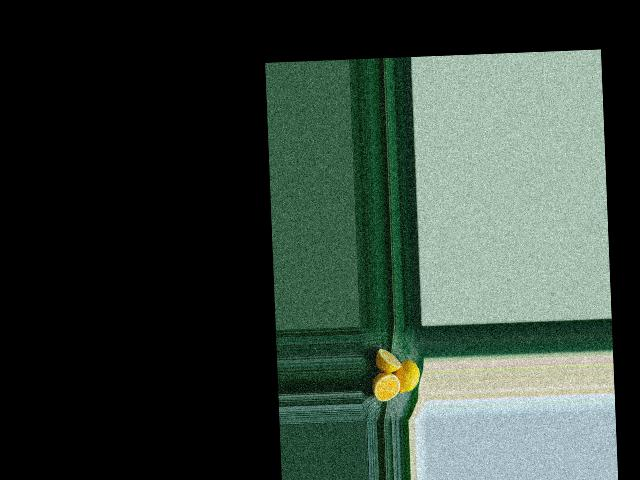lemon: (392, 359, 420, 398)
